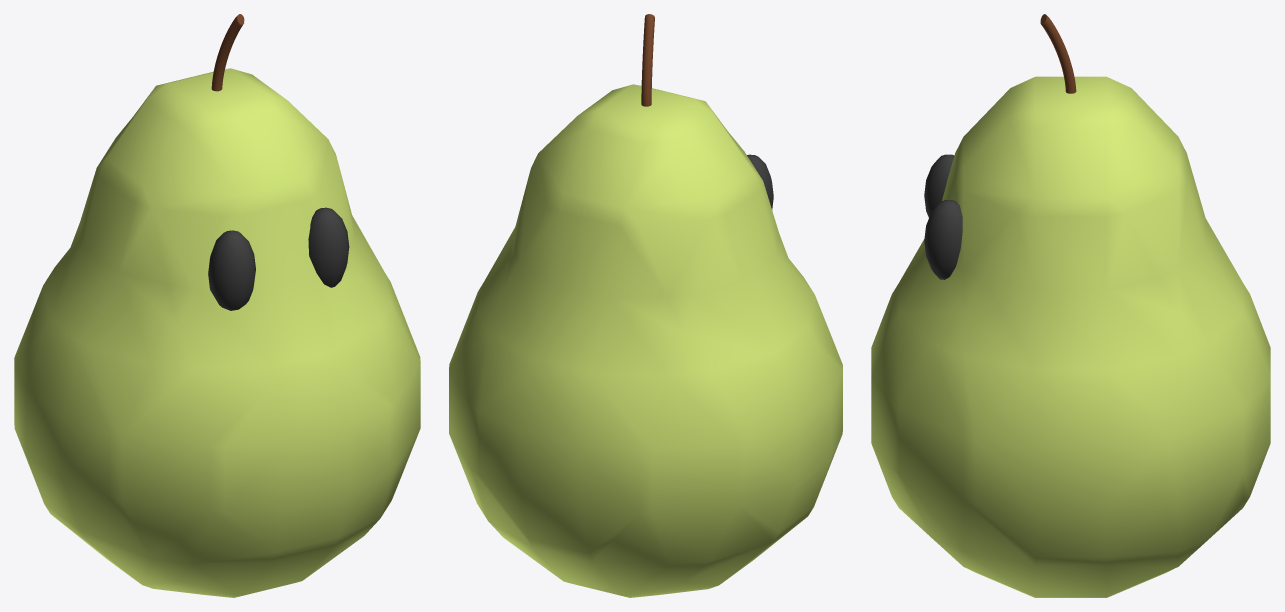
Rendered from Pear.fbx.
3 views of the same model, side by side, from view 1: azimuth 30°, elevation 25°; view 2: azimuth 150°, elevation 25°; view 3: azimuth 270°, elevation 25° (orthographic). The views are drawn at different scales.
Parts seen in each view (by area): view 1: Pear, Eyes, Stalk; view 2: Pear, Stalk; view 3: Pear, Eyes, Stalk.
Boxes of the visible parts, x1=… form: Pear: x1=14, y1=68, x2=420, y2=597; Eyes: x1=208, y1=207, x2=349, y2=310; Stalk: x1=211, y1=14, x2=244, y2=91; Pear: x1=449, y1=84, x2=842, y2=597; Stalk: x1=641, y1=14, x2=654, y2=106; Pear: x1=871, y1=76, x2=1270, y2=597; Eyes: x1=924, y1=154, x2=962, y2=279; Stalk: x1=1040, y1=14, x2=1076, y2=93.
Size of the model in its own units: 106 by 166 by 106.
